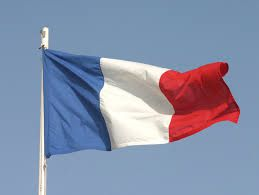French Flag: (36, 47, 240, 156)
